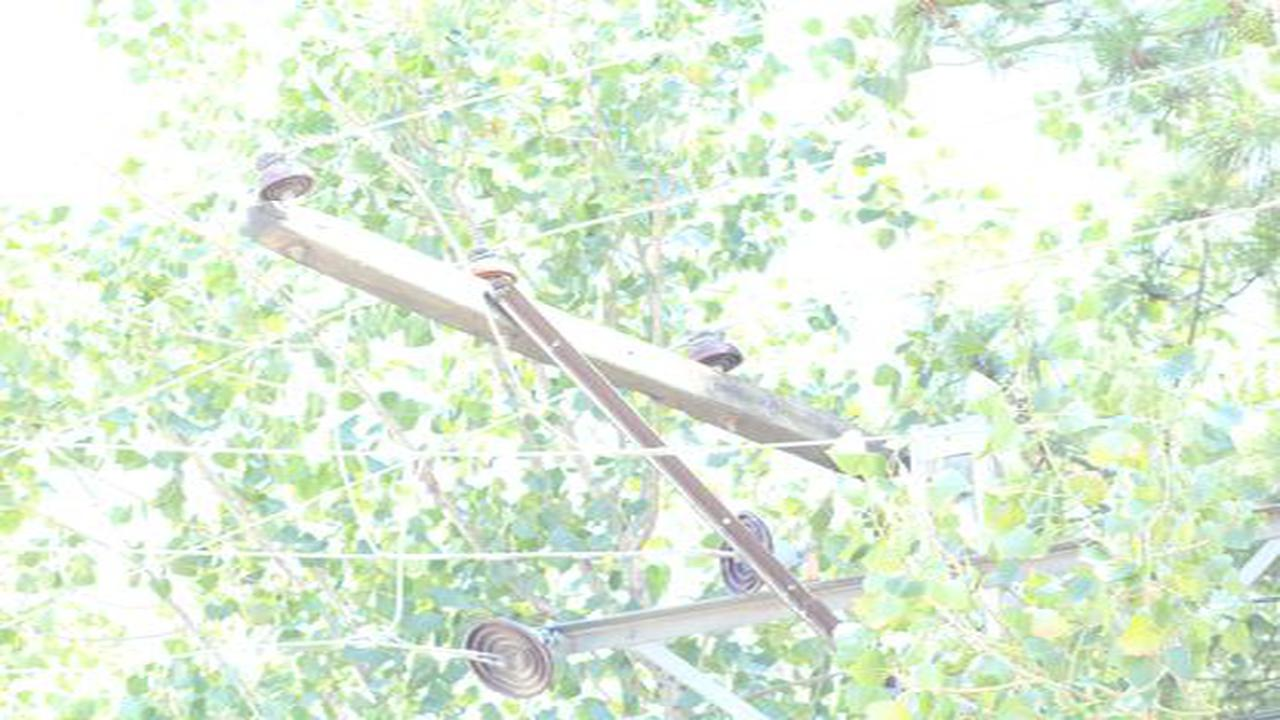insulator_disc: (462, 614, 555, 701), (716, 508, 776, 605)
insulator_pin: (252, 142, 316, 204), (677, 325, 746, 373), (464, 238, 522, 289)
